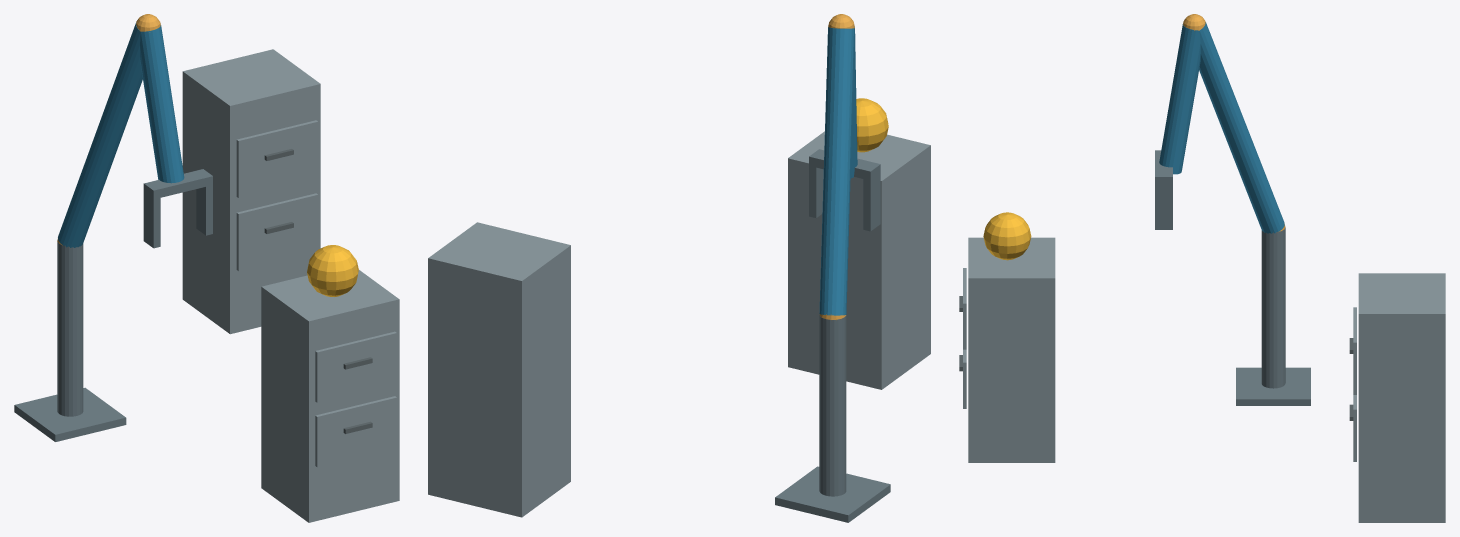
3 renders of one model, left to right at view 1: azimuth 30°, elevation 25°; view 2: azimuth 150°, elevation 25°; view 3: azimuth 270°, elevation 25°, orthographic. The views are drawn at different scales.
Parts seen in each view (by area): view 1: cabinet_1 body, cabinet_2 body, moving link 1, cabinet_2 drawer front.001, cabinet_2 drawer front, fixed post, cabinet_1 drawer front.001, cabinet_1 drawer front, moving link 2, pedestal, ball ball_1, gripper bridge (+2 smaller); view 2: cabinet_2 body, cabinet_1 body, moving link 1, fixed post, pedestal, ball ball_1, gripper finger -1, gripper finger 1, gripper bridge, moving link 2; view 3: cabinet_2 body, cabinet_1 body, moving link 1, fixed post, moving link 2, pedestal, ball ball_1, gripper finger 1.
Part boxes in pixels (x1,y1,x2,y2): cabinet_1 body: (261, 270, 399, 522); cabinet_2 body: (182, 49, 320, 334); moving link 1: (58, 22, 142, 247); cabinet_2 drawer front.001: (236, 120, 318, 197); cabinet_2 drawer front: (236, 193, 318, 270); fixed post: (57, 240, 83, 416); cabinet_1 drawer front.001: (315, 331, 396, 402); cabinet_1 drawer front: (315, 396, 396, 467); moving link 2: (140, 25, 184, 183); pedestal: (14, 387, 126, 441); ball ball_1: (307, 245, 358, 296); gripper bridge: (143, 169, 212, 199); cabinet_2 body: (428, 222, 570, 517); cabinet_1 body: (788, 131, 930, 389); moving link 1: (819, 27, 854, 315); fixed post: (819, 315, 846, 496); pedestal: (775, 466, 890, 522); ball ball_1: (856, 98, 888, 152); gripper finger -1: (863, 174, 880, 231); gripper finger 1: (809, 166, 823, 217); gripper bridge: (809, 149, 880, 180); moving link 2: (850, 26, 857, 178); cabinet_2 body: (1358, 273, 1445, 522); cabinet_1 body: (968, 237, 1055, 462); moving link 1: (1199, 22, 1284, 233); fixed post: (1261, 227, 1285, 388); moving link 2: (1159, 24, 1200, 174); pedestal: (1236, 367, 1310, 405); ball ball_1: (983, 212, 1031, 260); gripper finger 1: (1155, 185, 1172, 229).
Size of the model in its own units: 1.17 by 1.44 by 1.62.
